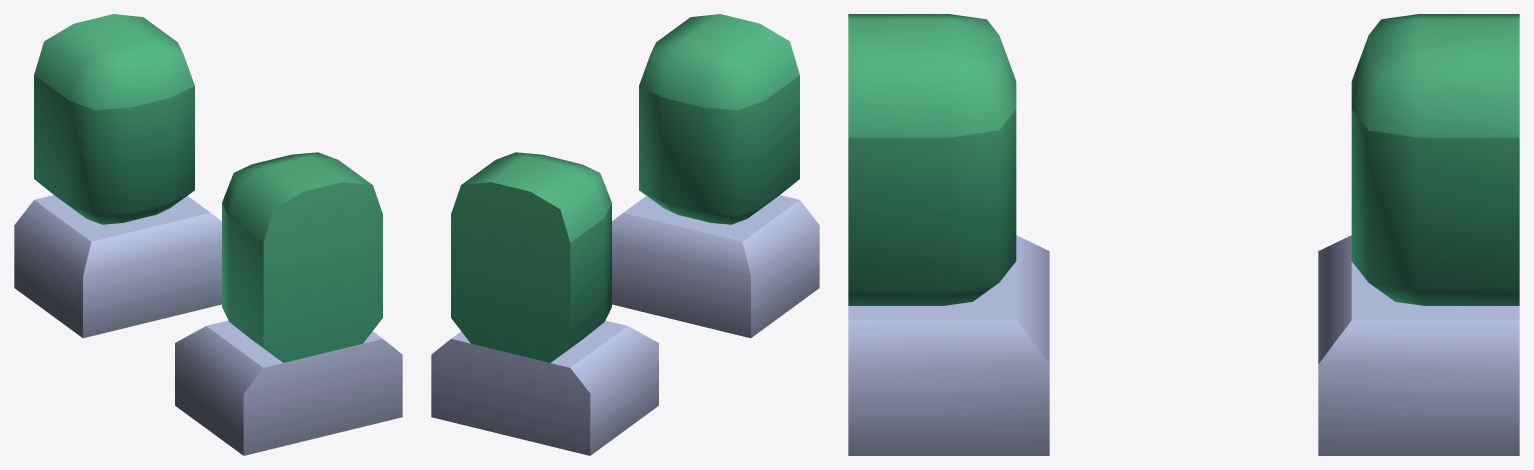
File: hedge-large-gate.glb
3 renders of one model, left to right at view 1: azimuth 30°, elevation 25°; view 2: azimuth 150°, elevation 25°; view 3: azimuth 270°, elevation 25°, orthographic. The views are drawn at different scales.
Visible parts, largest first — view 1: hedge-large-gate; view 2: hedge-large-gate; view 3: hedge-large-gate.
Boxes of the visible parts, left/top/right/bottom form: hedge-large-gate: left=14, top=14, right=402, bottom=455; hedge-large-gate: left=431, top=14, right=819, bottom=455; hedge-large-gate: left=848, top=14, right=1519, bottom=455.
Bounding box in the file's own units: 0.3999 × 0.6001 × 1.
Materials: 1 (1 with a texture image).
